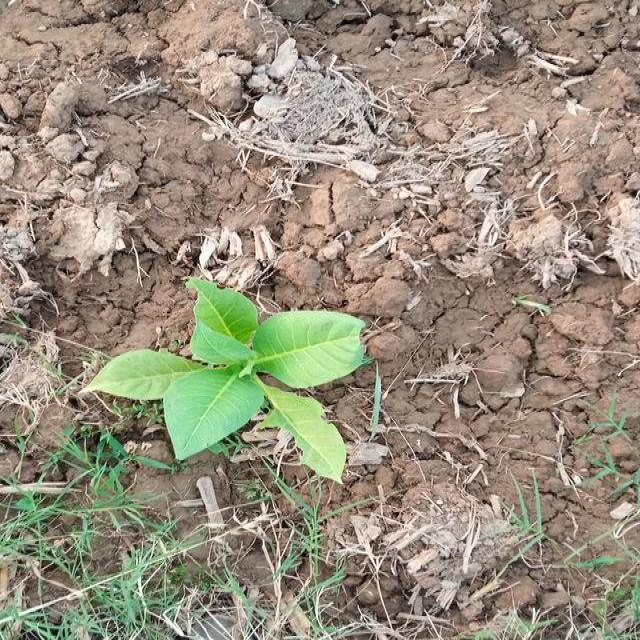crop: (89, 291, 374, 474)
